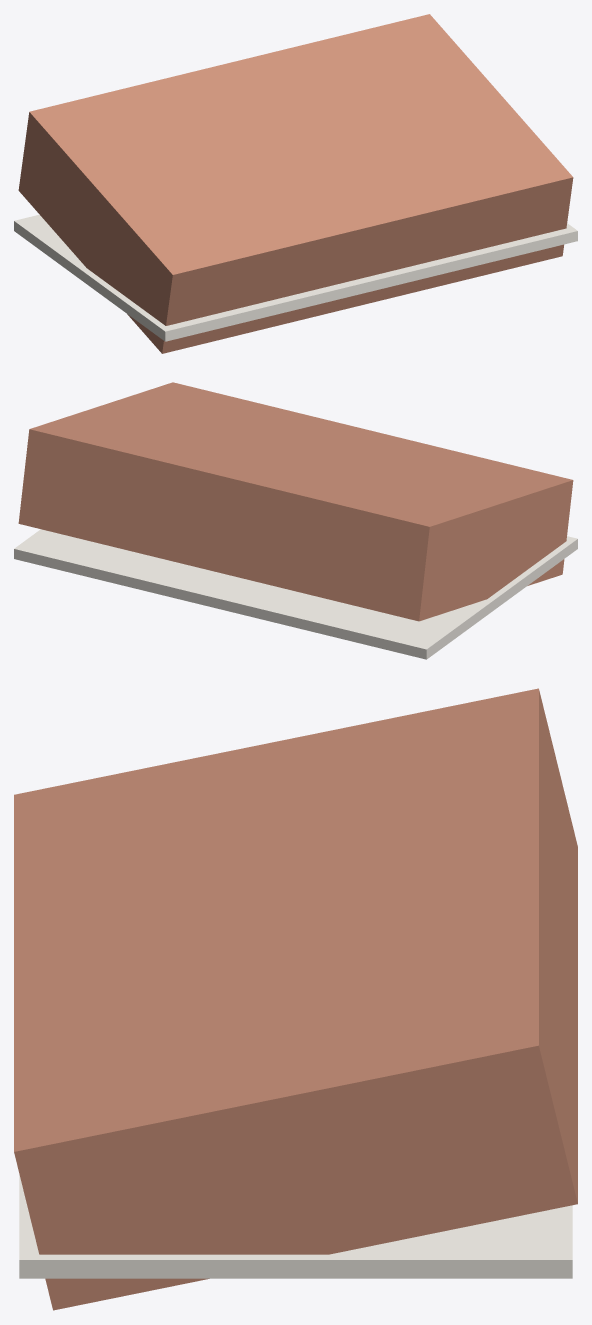
The model's file is MOD_ROOF_TILE_STANDARD_001_LOD_CLOSE.glb.
3 renders of one model, top to bottom at view 1: azimuth 30°, elevation 25°; view 2: azimuth 150°, elevation 25°; view 3: azimuth 270°, elevation 25°, orthographic. The views are drawn at different scales.
Parts seen in each view (by area): view 1: MOD_ROOF_TILE_STANDARD_001_gable_tile_roof_ROOF, MOD_ROOF_TILE_STANDARD_001_gable_tile_roof_FASCIA; view 2: MOD_ROOF_TILE_STANDARD_001_gable_tile_roof_ROOF, MOD_ROOF_TILE_STANDARD_001_gable_tile_roof_FASCIA; view 3: MOD_ROOF_TILE_STANDARD_001_gable_tile_roof_ROOF, MOD_ROOF_TILE_STANDARD_001_gable_tile_roof_FASCIA.
Part boxes in pixels (x1,y1,x2,y2): MOD_ROOF_TILE_STANDARD_001_gable_tile_roof_ROOF: [18, 14, 573, 353]; MOD_ROOF_TILE_STANDARD_001_gable_tile_roof_FASCIA: [14, 214, 577, 341]; MOD_ROOF_TILE_STANDARD_001_gable_tile_roof_ROOF: [18, 382, 573, 621]; MOD_ROOF_TILE_STANDARD_001_gable_tile_roof_FASCIA: [14, 529, 577, 659]; MOD_ROOF_TILE_STANDARD_001_gable_tile_roof_ROOF: [14, 688, 577, 1310]; MOD_ROOF_TILE_STANDARD_001_gable_tile_roof_FASCIA: [19, 1174, 572, 1278].
Size of the model in its own units: 3.4 by 1.14 by 2.2.
